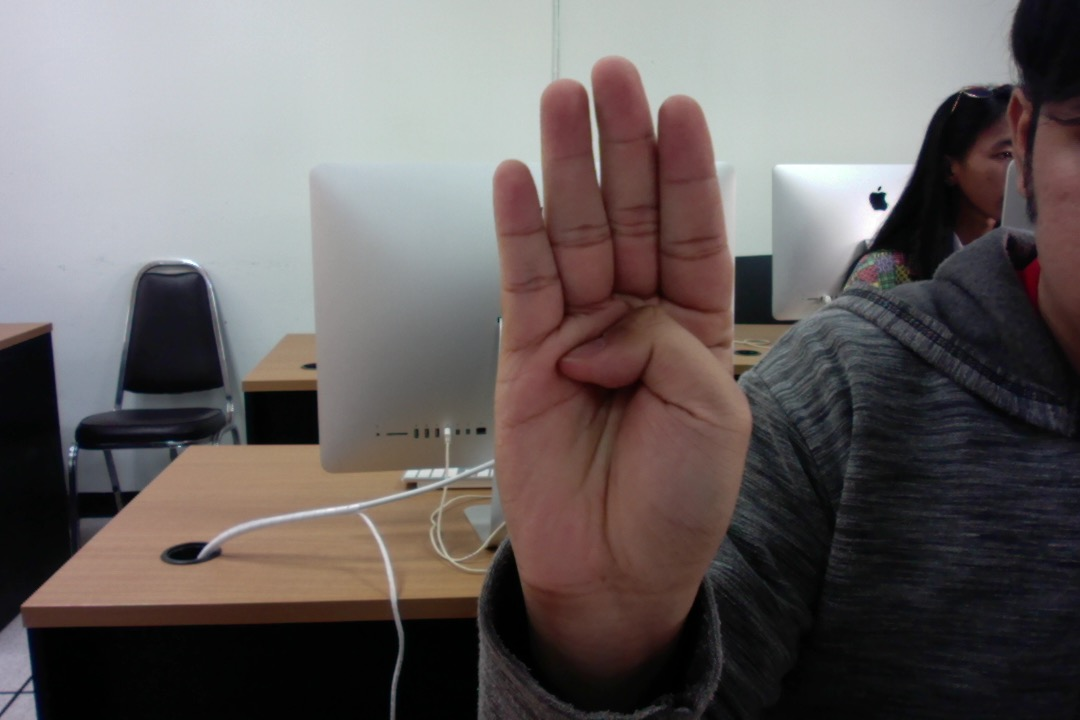bor: (472, 45, 774, 659)
